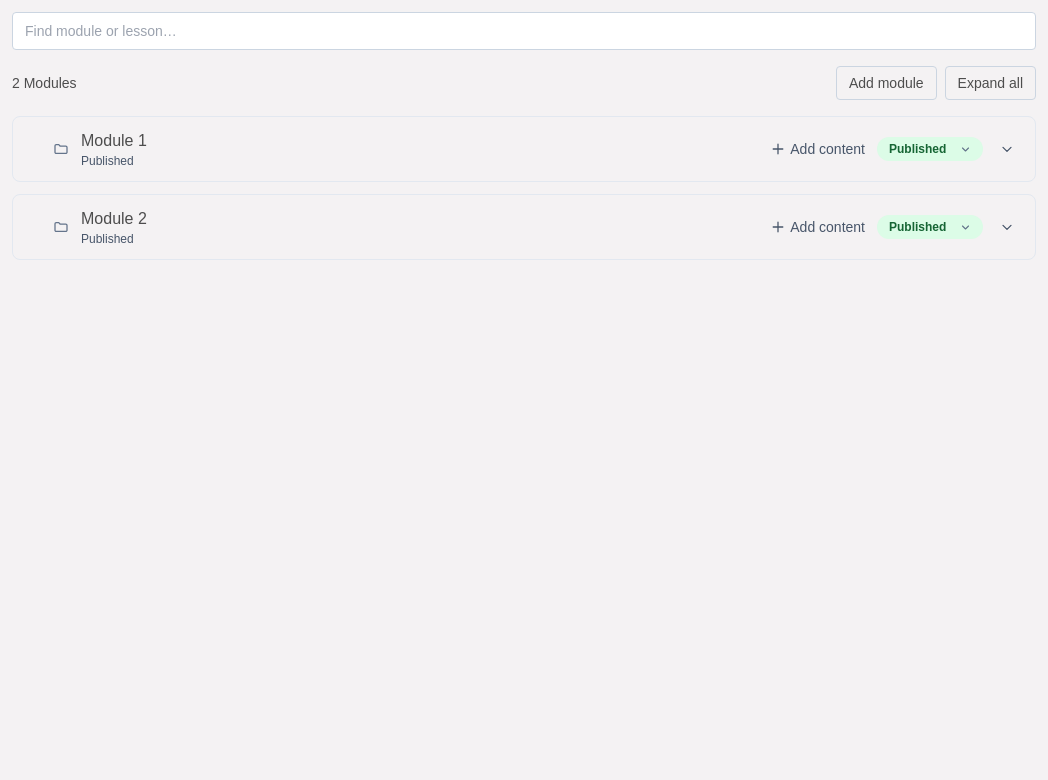
Test: status › sends a module's choice as a module's, and shows the reason when it is refused
Click the button "Expand all".
click(990, 83)  # box [945,66,1036,100]
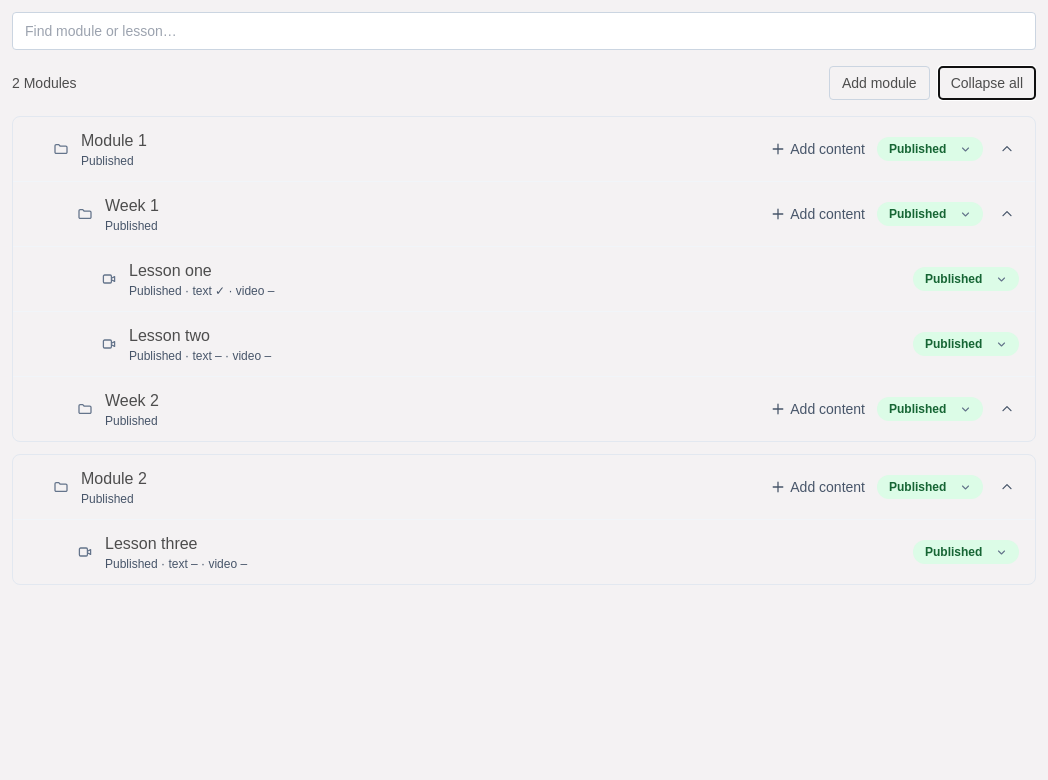
Select "Draft" in the dropdown named "Status of Module 1" at (930, 149), box [877,137,983,161]
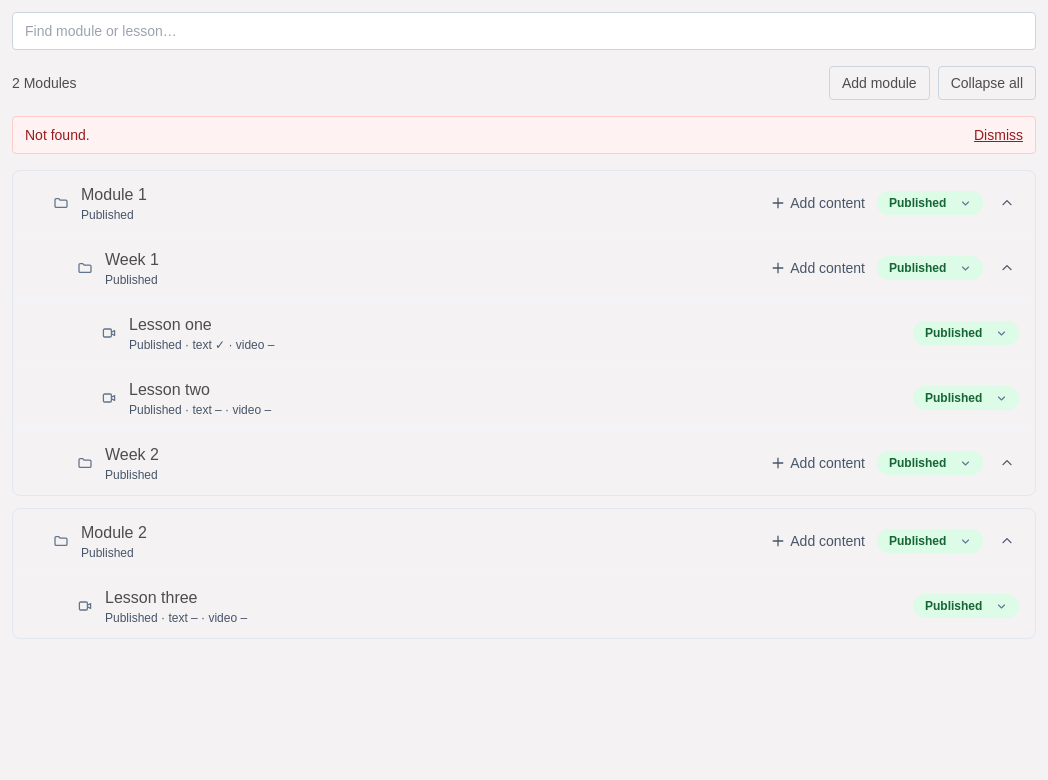
Expected: the text "Not found." is shown, [25,125,90,145]
